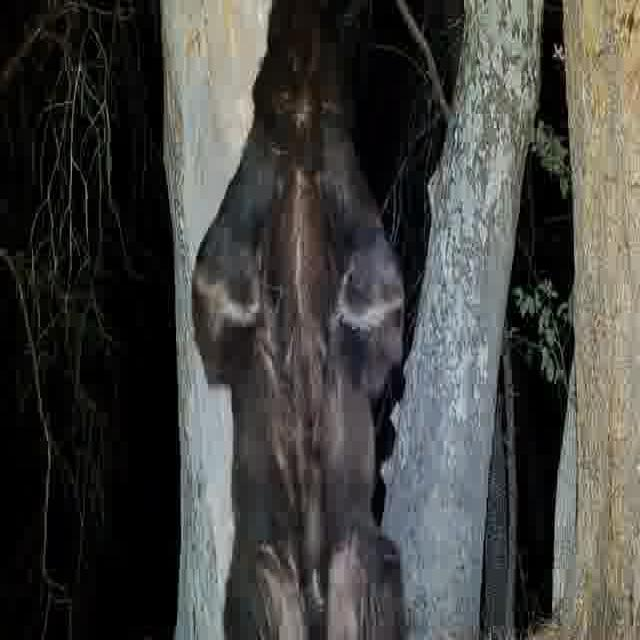bear face: (191, 0, 407, 640)
